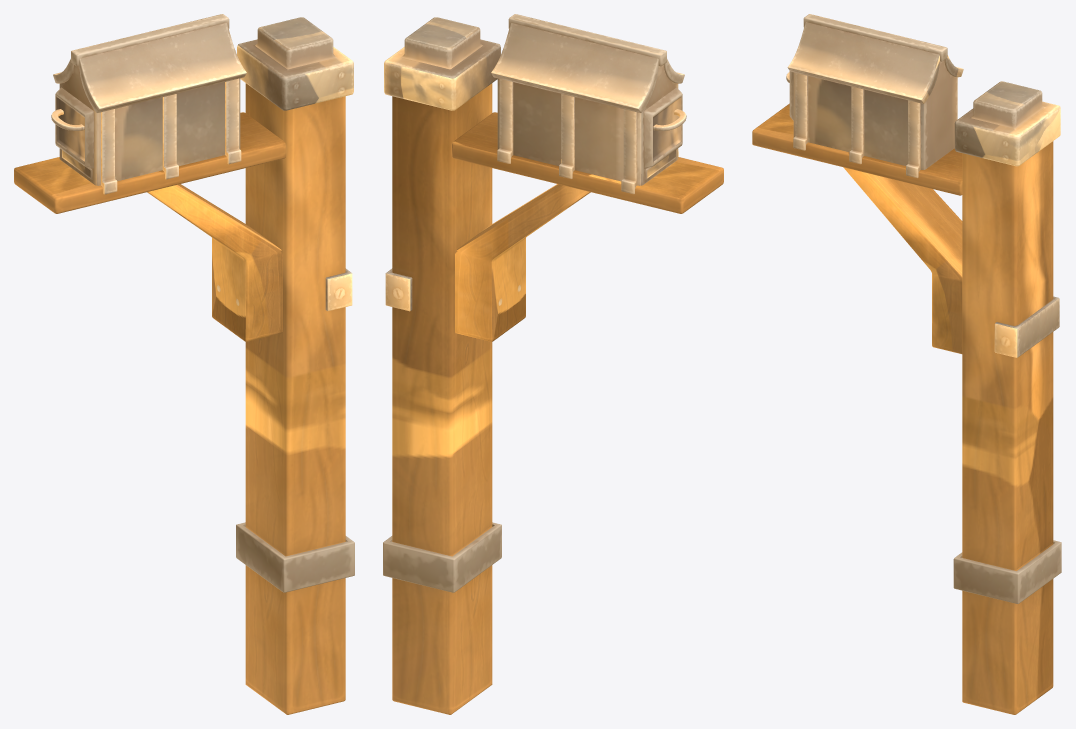
The model's file is SM_MailBox.fbx.
3 renders of one model, left to right at view 1: azimuth 30°, elevation 25°; view 2: azimuth 150°, elevation 25°; view 3: azimuth 330°, elevation 25°, orthographic. The views are drawn at different scales.
Visible parts, largest first — view 1: SM_MailBox_LOD0; view 2: SM_MailBox_LOD0; view 3: SM_MailBox_LOD0.
Boxes of the visible parts, x1,y1,x2,y2 form: SM_MailBox_LOD0: [14, 14, 354, 714]; SM_MailBox_LOD0: [383, 14, 723, 714]; SM_MailBox_LOD0: [752, 14, 1061, 714].
Size of the model in its own units: 53.58 by 15.1 by 120.
